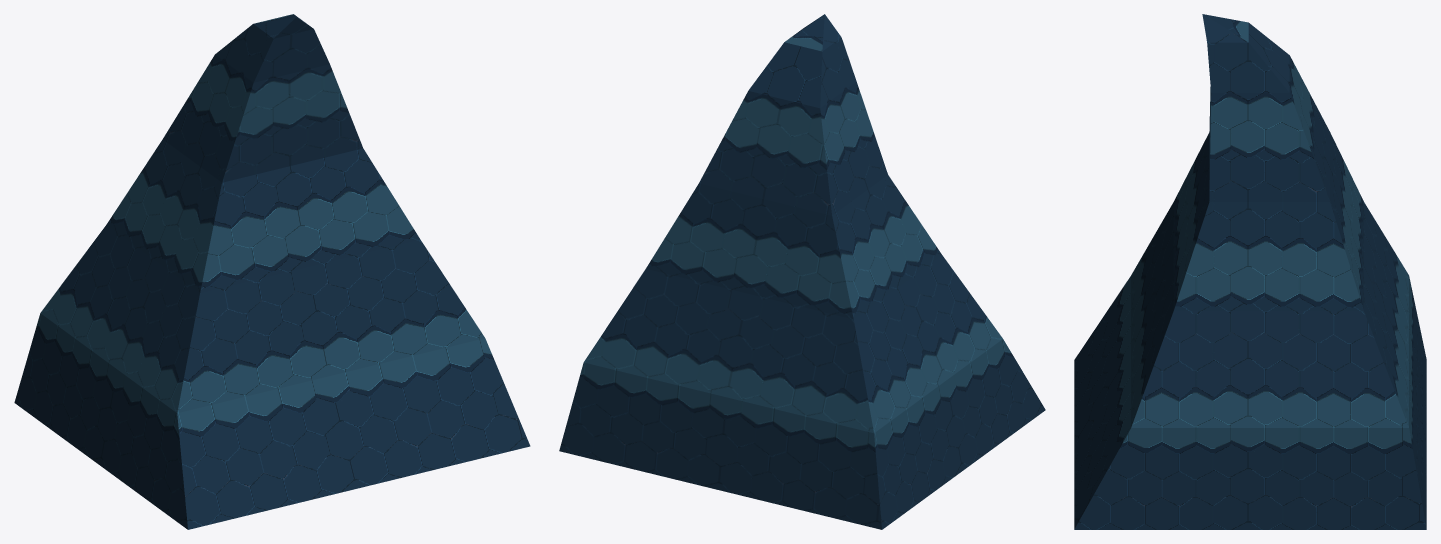
File: edificio_sobrenatural_2.fbx
The picture shows the model from 3 angles, left to right: view 1: azimuth 30°, elevation 25°; view 2: azimuth 150°, elevation 25°; view 3: azimuth 270°, elevation 25°; orthographic projection. The views are drawn at different scales.
Parts seen in each view (by area): view 1: edificio low poly; view 2: edificio low poly; view 3: edificio low poly.
Part boxes in pixels (x1,y1,x2,y2): edificio low poly: (14, 14, 530, 529); edificio low poly: (559, 14, 1045, 529); edificio low poly: (1074, 14, 1426, 529).
Bounding box in the file's own units: 95.98 × 114 × 84.29.
